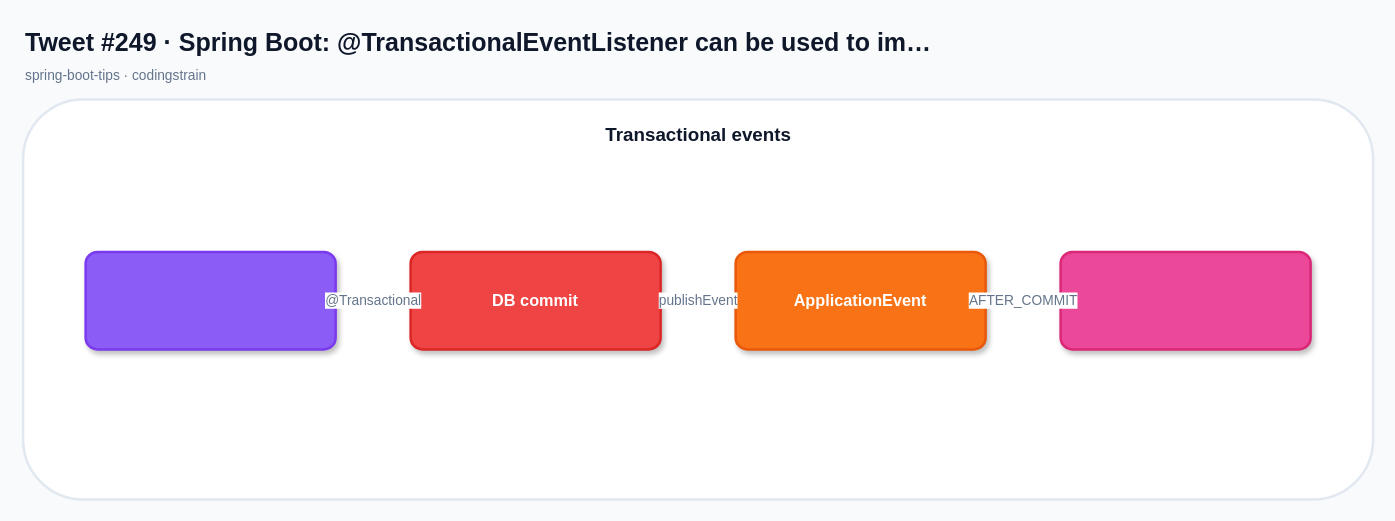
Some shapes in this 1395 by 521 pixel diagram are drawn without their labels. Each missing label, with the centre of its shape:
"@TransactionalEventListener" belongs at (x=1186, y=302).
"createOrder()" belongs at (x=211, y=302).
